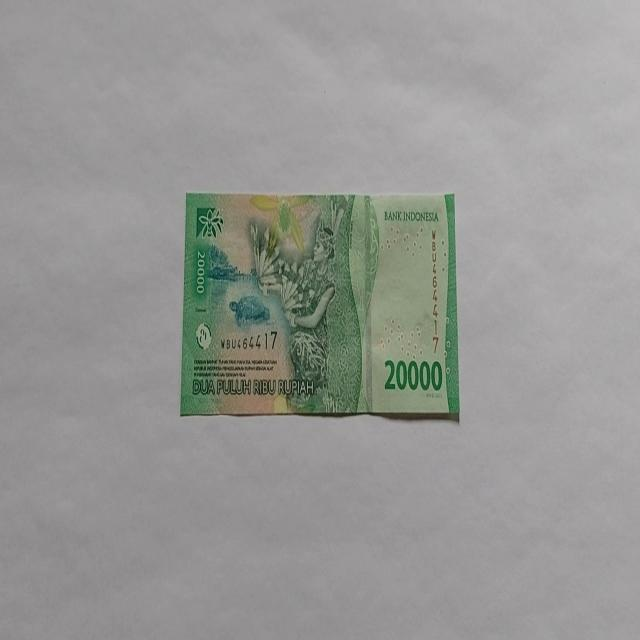dua puluh ribu rupiah: (180, 190, 460, 422), (248, 193, 378, 414)
